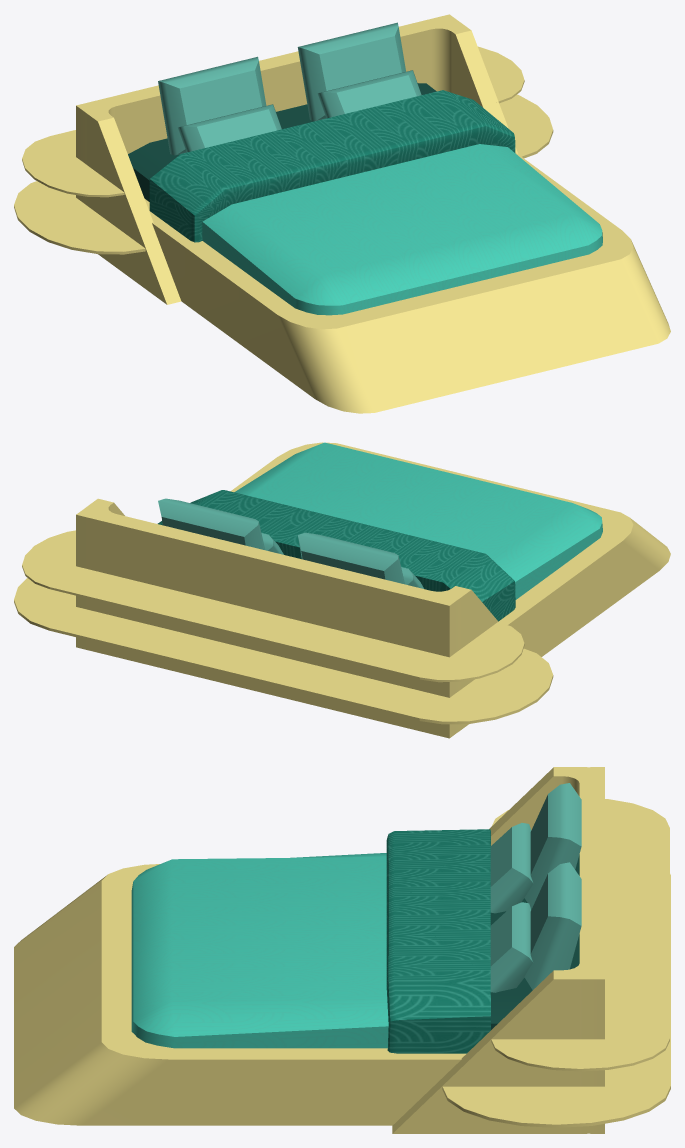
File: bed_v4.fbx
3 renders of one model, top to bottom at view 1: azimuth 30°, elevation 25°; view 2: azimuth 150°, elevation 25°; view 3: azimuth 270°, elevation 25°, orthographic. The views are drawn at different scales.
Visible parts, largest first — view 1: polySurface2, pCube4, pCube5, pCube7, pCylinder1, pCube8, pCylinder2, polySurface1; view 2: pCube5, polySurface2, pCylinder1, pCylinder2, pCube4, pCube7, pCube8; view 3: polySurface2, pCube4, pCube5, pCylinder2, pCylinder1, pCube7, pCube8, polySurface1.
Boxes of the visible parts, <box> form: polySurface2: <box>149,90,602,315</box>; pCube4: <box>145,152,670,413</box>; pCube5: <box>76,14,517,304</box>; pCube7: <box>158,22,405,155</box>; pCylinder1: <box>14,94,553,254</box>; pCube8: <box>178,70,421,152</box>; pCylinder2: <box>22,46,524,197</box>; polySurface1: <box>128,83,436,201</box>; pCube5: <box>76,498,498,738</box>; polySurface2: <box>157,442,602,621</box>; pCylinder1: <box>14,578,553,724</box>; pCylinder2: <box>22,530,524,682</box>; pCube4: <box>230,442,670,656</box>; pCube7: <box>158,498,404,584</box>; pCube8: <box>261,533,423,588</box>; polySurface2: <box>131,829,490,1053</box>; pCube4: <box>14,864,466,1125</box>; pCube5: <box>392,767,604,1133</box>; pCylinder2: <box>491,799,669,1071</box>; pCylinder1: <box>442,874,670,1127</box>; pCube7: <box>524,783,581,989</box>; pCube8: <box>490,823,533,992</box>; polySurface1: <box>490,854,579,1029</box>.
Size of the model in its own units: 374 by 107 by 360.
